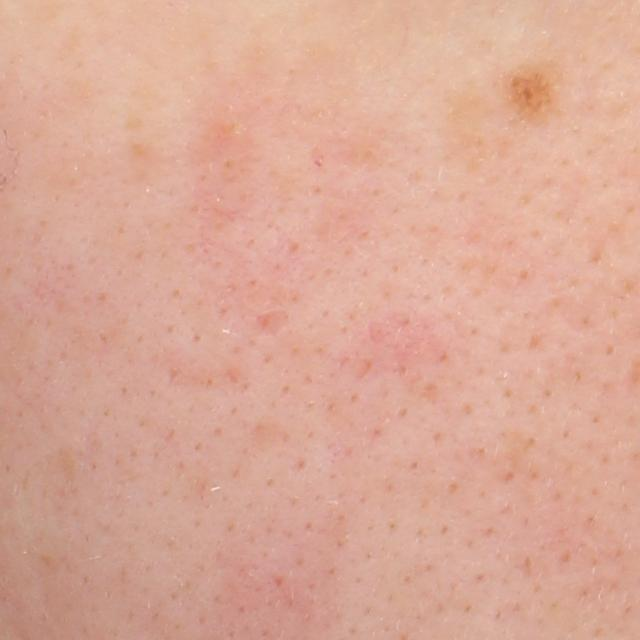atrophic_scar: (251, 307, 293, 341)
nevus: (508, 56, 562, 122)
